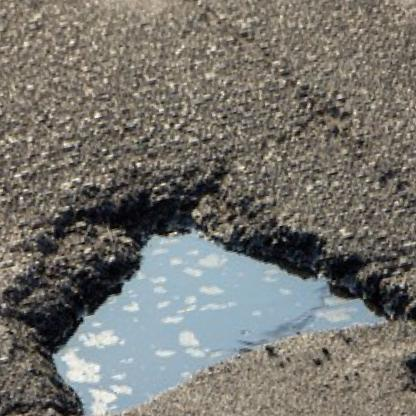pothole: (0, 125, 416, 416)
